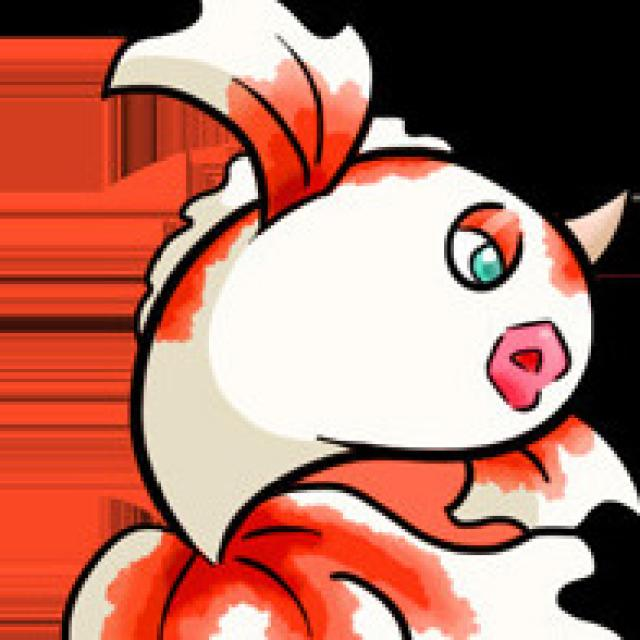Goldeen: (131, 70, 640, 639)
